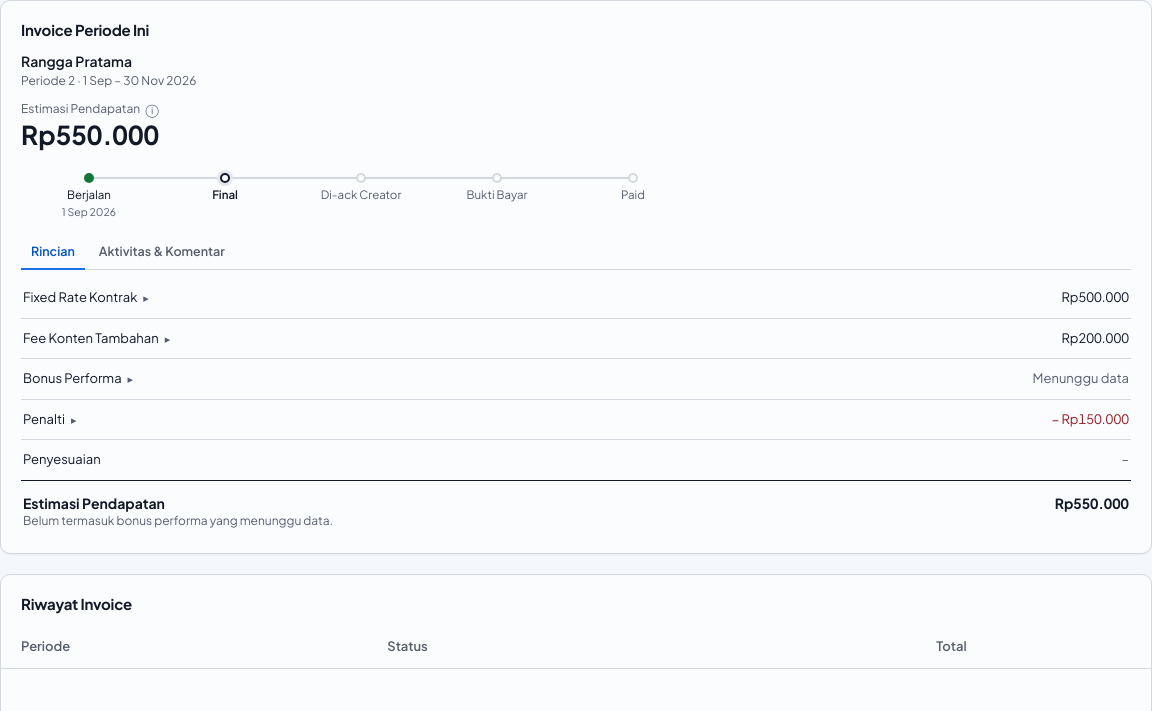
Test: CreatorInvoices › the creator's moves › shows a sent comment without reading every invoice again, which only a move needs
Step 1. Click the tab "Aktivitas & Komentar" → click(162, 252), box [89,234,235,270]
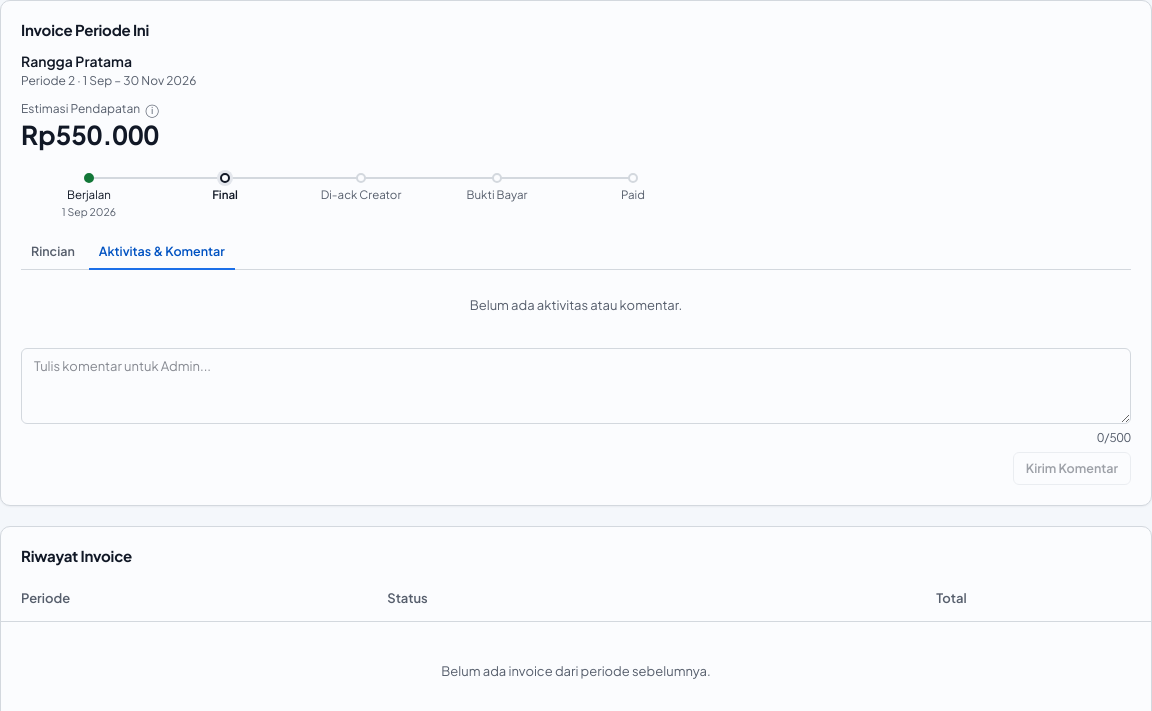
Step 2. Type "Halo Admin" into the text box labelled "komentar" → (576, 386), box [21,348,1131,424]
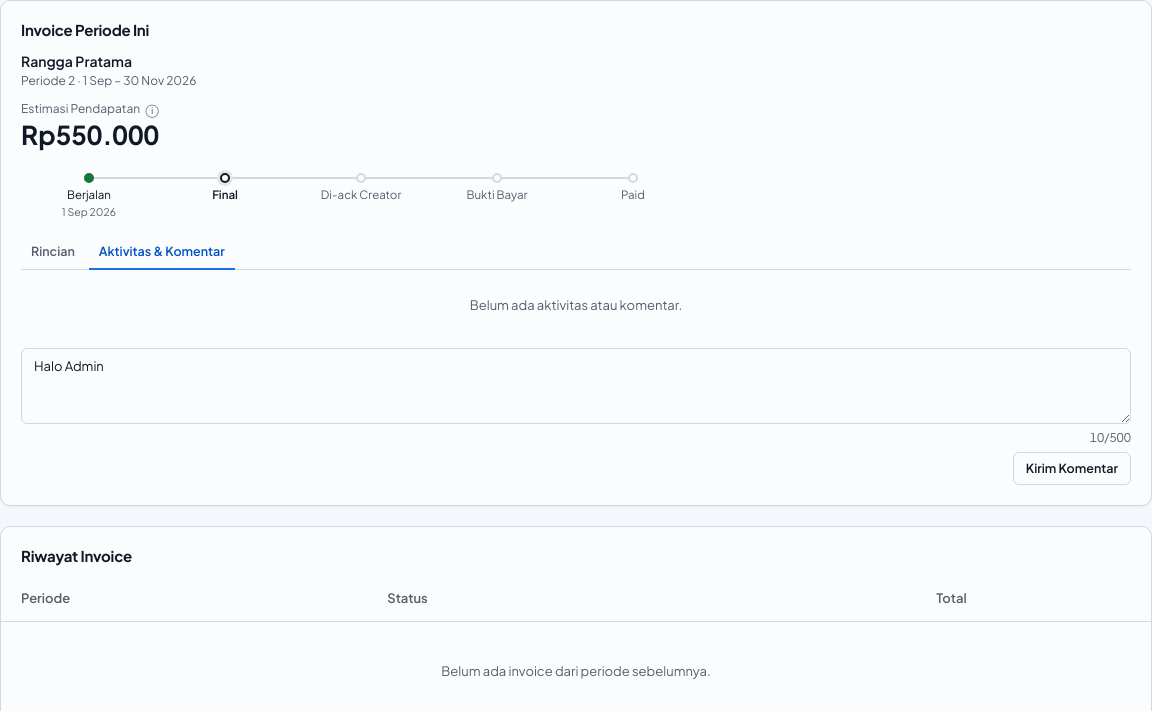
Step 3. Click the button "Kirim Komentar" → click(1072, 469), box [1013,452,1131,485]
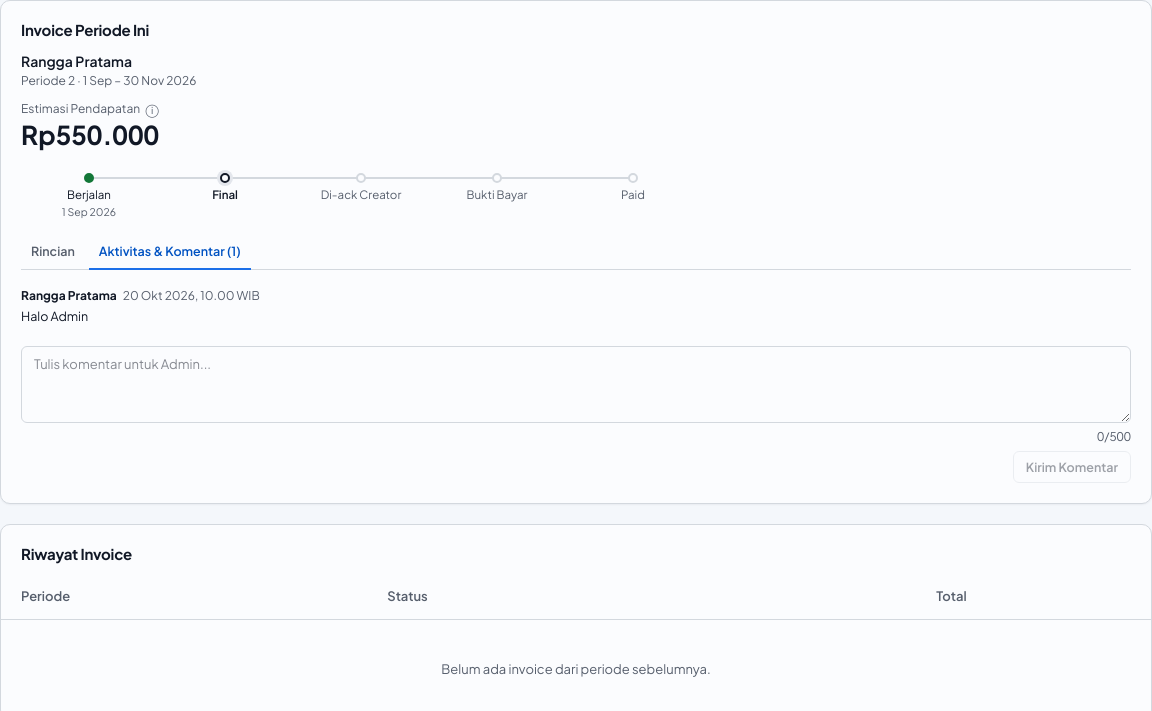
Now the list named "Aktivitas & komentar" shows "Halo Admin", box [21,308,88,324]
